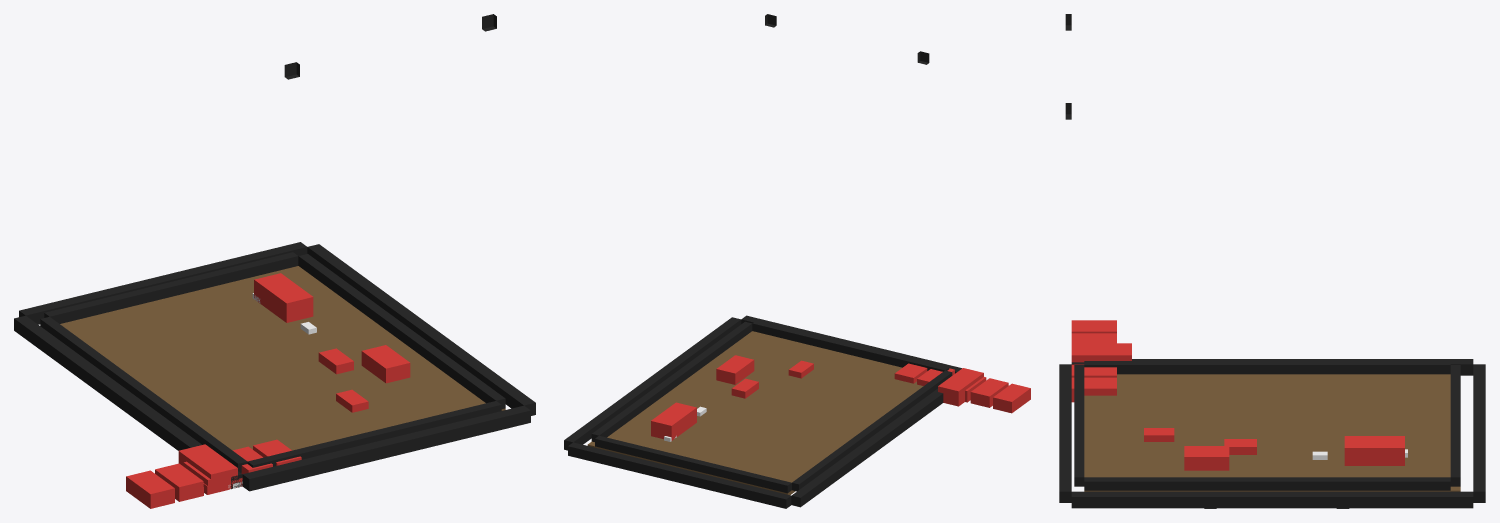
Rendered from Tranh điện siêu mỏng 60 x 80.obj.
The picture shows the model from 3 angles, left to right: view 1: azimuth 30°, elevation 25°; view 2: azimuth 150°, elevation 25°; view 3: azimuth 270°, elevation 25°; orthographic projection. The views are drawn at different scales.
Parts seen in each view (by area): view 1: tranh_dien_sieu_mong_60_x_80; view 2: tranh_dien_sieu_mong_60_x_80; view 3: tranh_dien_sieu_mong_60_x_80.
Part boxes in pixels (left/top/right/bottom): tranh_dien_sieu_mong_60_x_80: left=14, top=14, right=535, bottom=508; tranh_dien_sieu_mong_60_x_80: left=564, top=14, right=1030, bottom=508; tranh_dien_sieu_mong_60_x_80: left=1059, top=14, right=1485, bottom=508.
Size of the model in its own units: 0.8212 by 0.8625 by 0.85.
